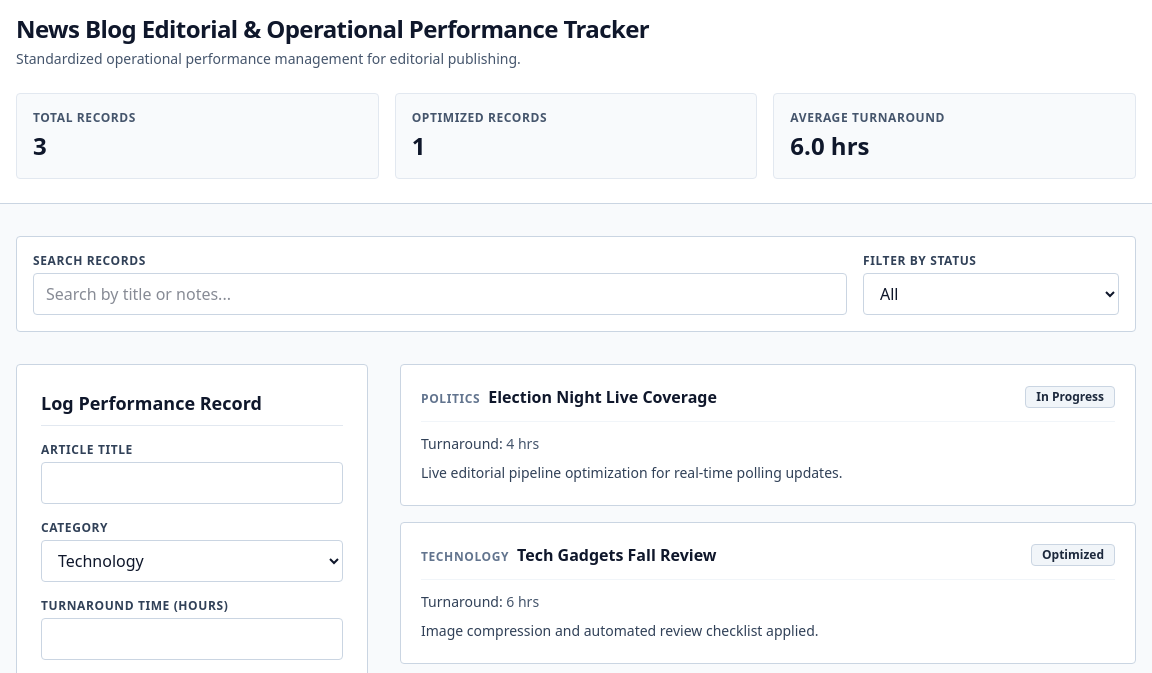
Test: News Blog Performance Tracker Acceptance Tests › validates minimum length and positive turnaround time
Type "AB" into the field labelled "Article Title".
click(192, 483); type("AB")  # box [41,462,343,504]
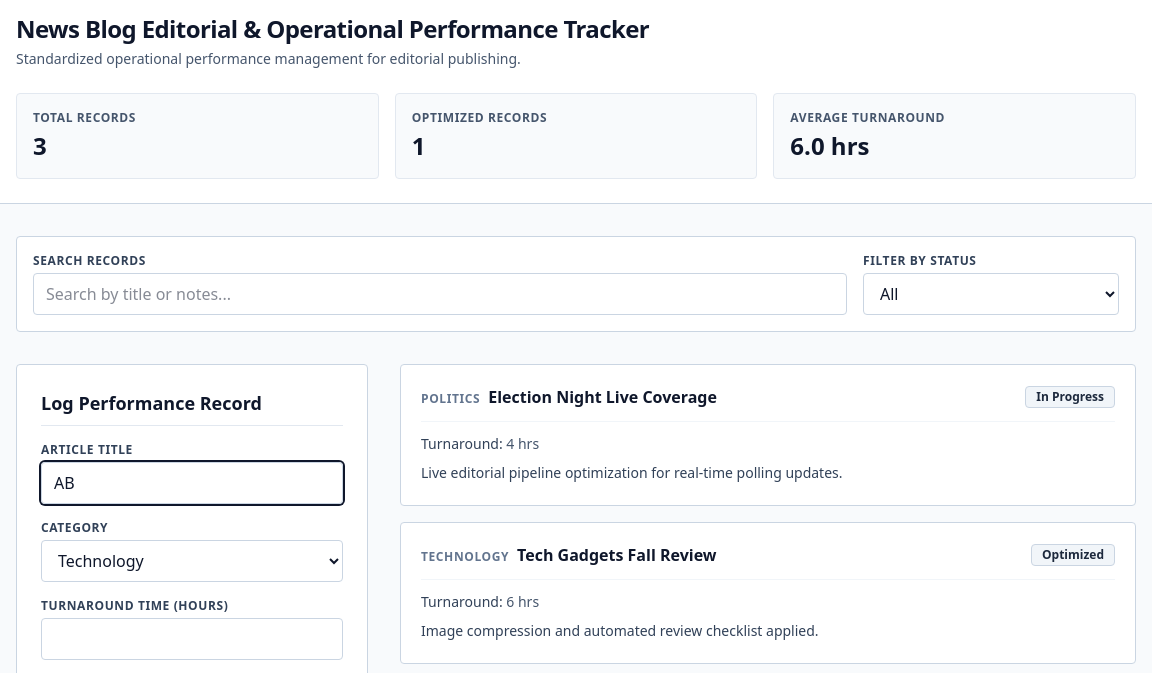
Type "-5" into the number field labelled "Turnaround Time (Hours)".
click(192, 639); type("-5")  # box [41,618,343,660]
(page scrolled)
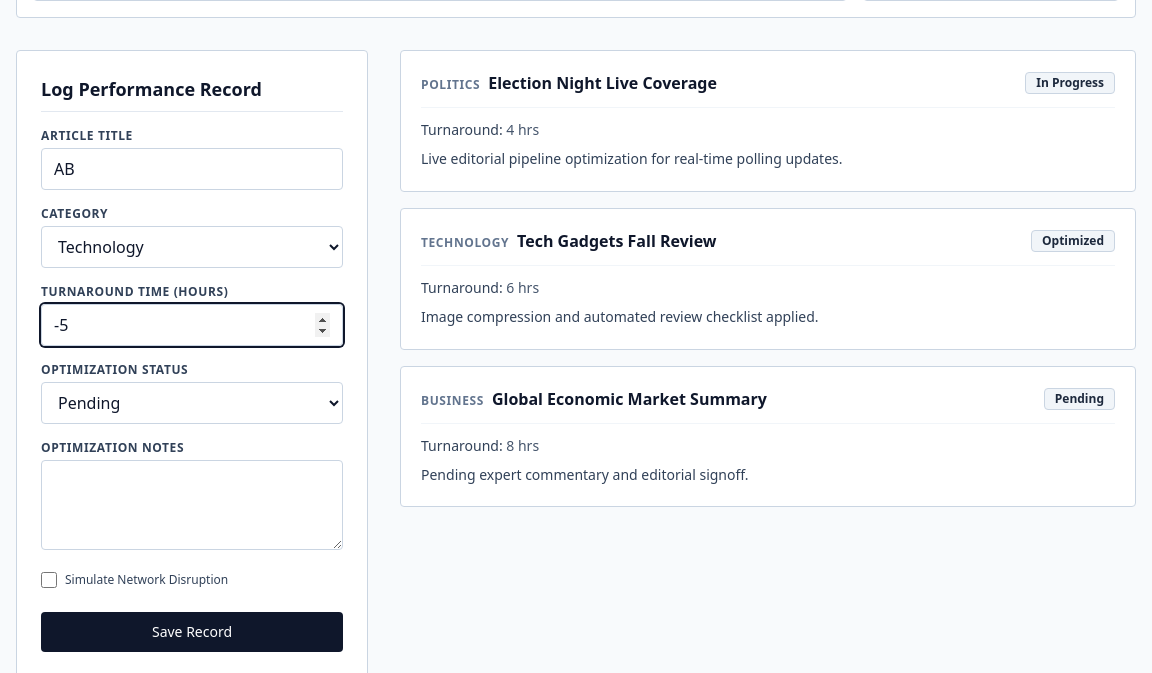
Type "Tiny" into the text box labelled "Optimization Notes".
click(192, 505); type("Tiny")  # box [41,460,343,550]
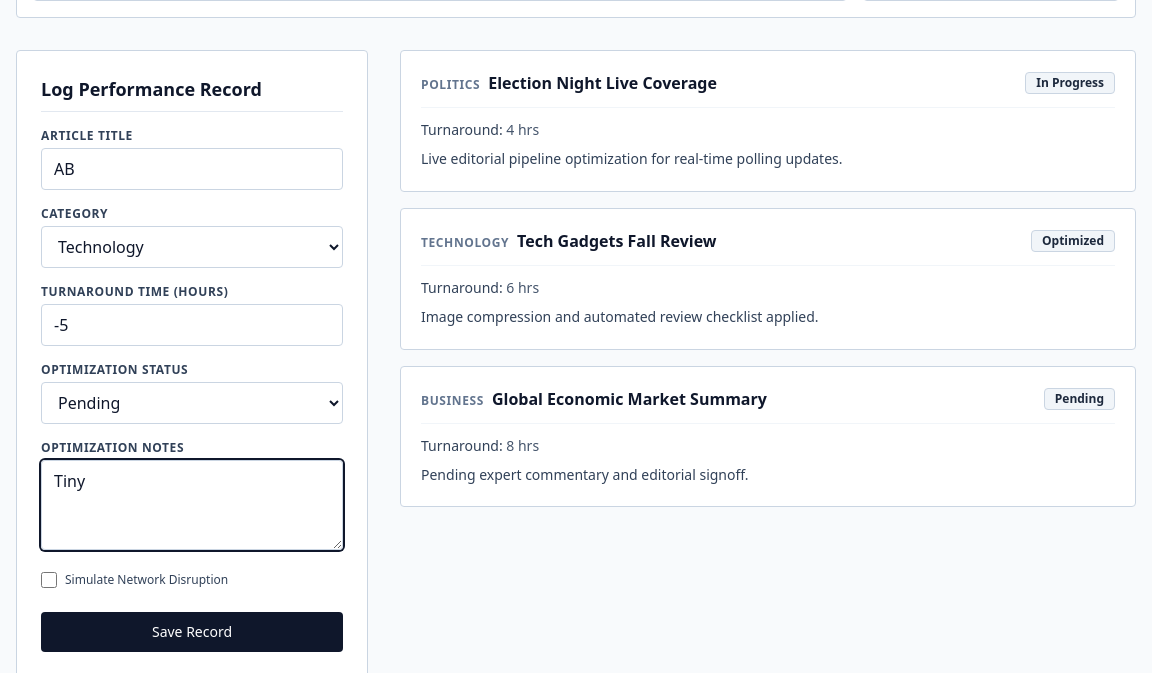
Click the button "Save Record".
click(192, 632)  # box [41,612,343,652]
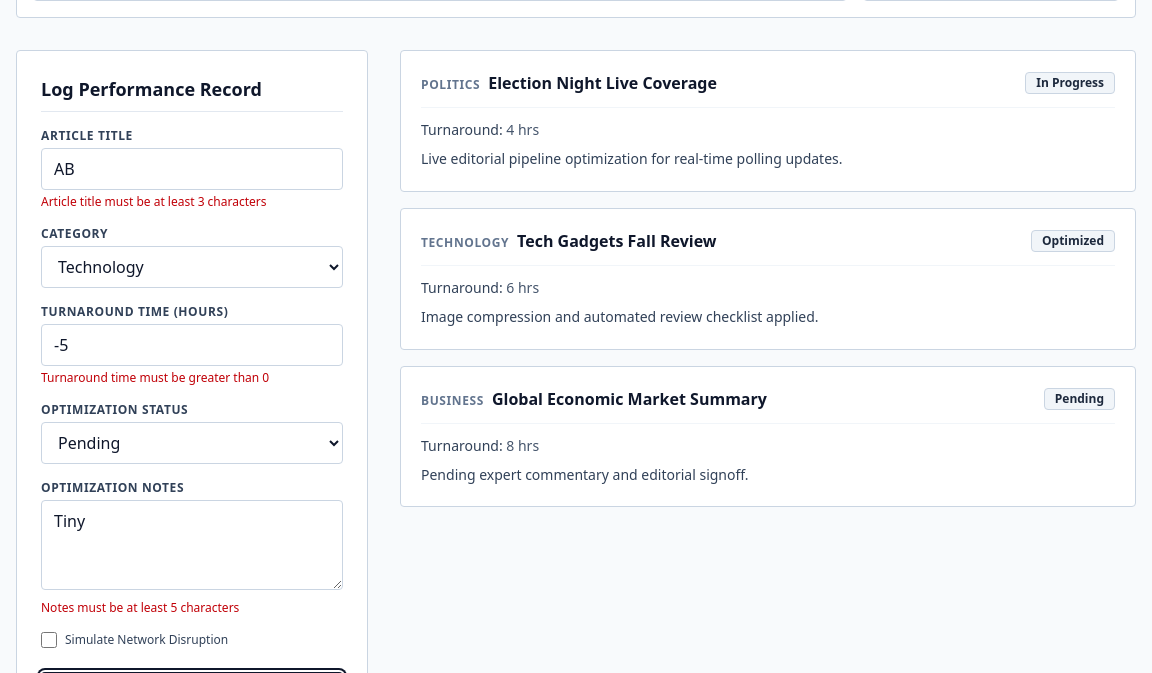
Check: the text "Article title must be at least 3 characters" is shown, box [41,193,266,210]
Check: the text "Turnaround time must be greater than 0" is shown, box [41,369,269,386]
Check: the text "Notes must be at least 5 characters" is shown, box [41,599,239,616]
